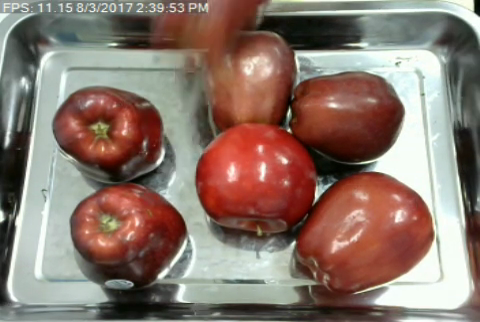Apple: (290, 169, 438, 299), (193, 120, 318, 234), (66, 179, 191, 290), (285, 66, 407, 166), (49, 84, 168, 185), (198, 24, 299, 135)
